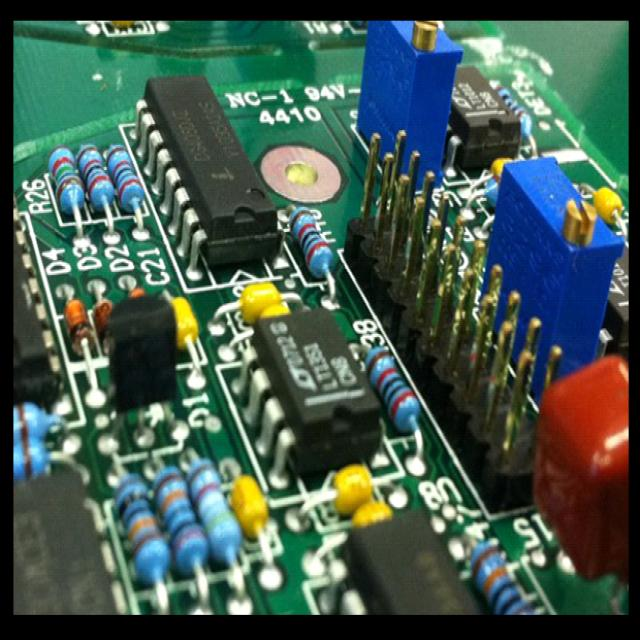IC: (136, 65, 287, 268), (247, 310, 374, 475)
resistor: (367, 344, 420, 439), (50, 139, 84, 229), (294, 209, 329, 279), (108, 144, 137, 222), (81, 138, 111, 212)
transistor: (100, 297, 185, 449)
